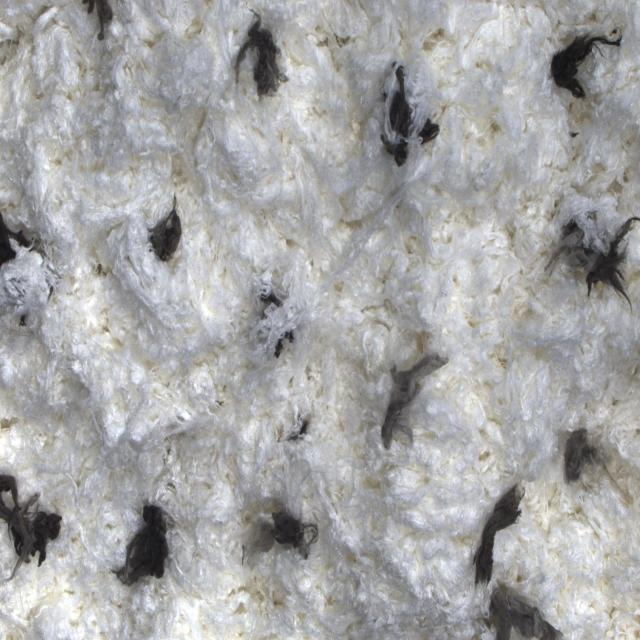dust: (547, 205, 640, 311), (0, 451, 66, 597), (370, 345, 458, 450), (464, 473, 530, 591), (0, 200, 54, 329), (110, 496, 175, 601), (234, 2, 293, 108), (548, 21, 623, 102), (562, 409, 625, 503), (244, 502, 319, 572), (487, 577, 565, 640), (139, 189, 198, 269), (376, 64, 418, 172), (256, 278, 299, 367), (279, 395, 314, 466), (415, 107, 450, 155), (78, 0, 115, 38)
